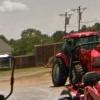Tractor: (44, 19, 100, 100)
